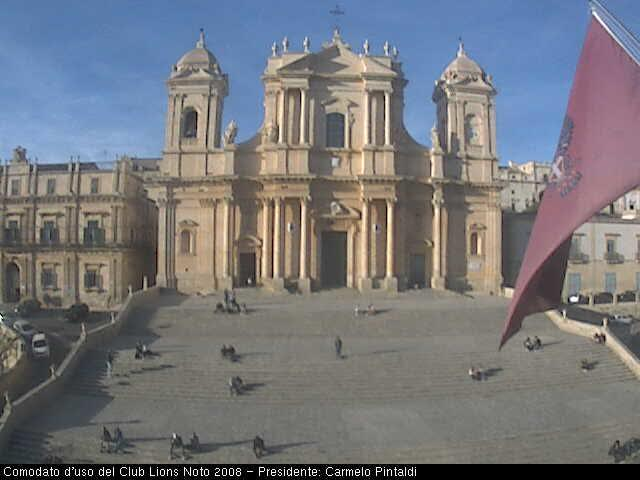person: (170, 431, 186, 460), (111, 426, 126, 453), (252, 433, 265, 459), (99, 424, 112, 450), (103, 347, 114, 377), (332, 334, 344, 360), (141, 340, 152, 368), (133, 340, 143, 370), (188, 431, 200, 455), (610, 439, 623, 461), (626, 435, 638, 456), (365, 301, 378, 320), (227, 376, 238, 397), (230, 289, 239, 314), (478, 362, 489, 382), (580, 357, 592, 375), (522, 335, 533, 354), (352, 303, 364, 320), (234, 374, 244, 394), (238, 300, 249, 318), (213, 300, 225, 316), (228, 343, 238, 361), (222, 288, 229, 312), (535, 334, 544, 352), (467, 365, 477, 381), (220, 342, 228, 361), (592, 329, 600, 345), (245, 274, 254, 288), (416, 276, 425, 290), (409, 277, 417, 291), (44, 453, 54, 463), (600, 331, 606, 345), (54, 456, 63, 464)
